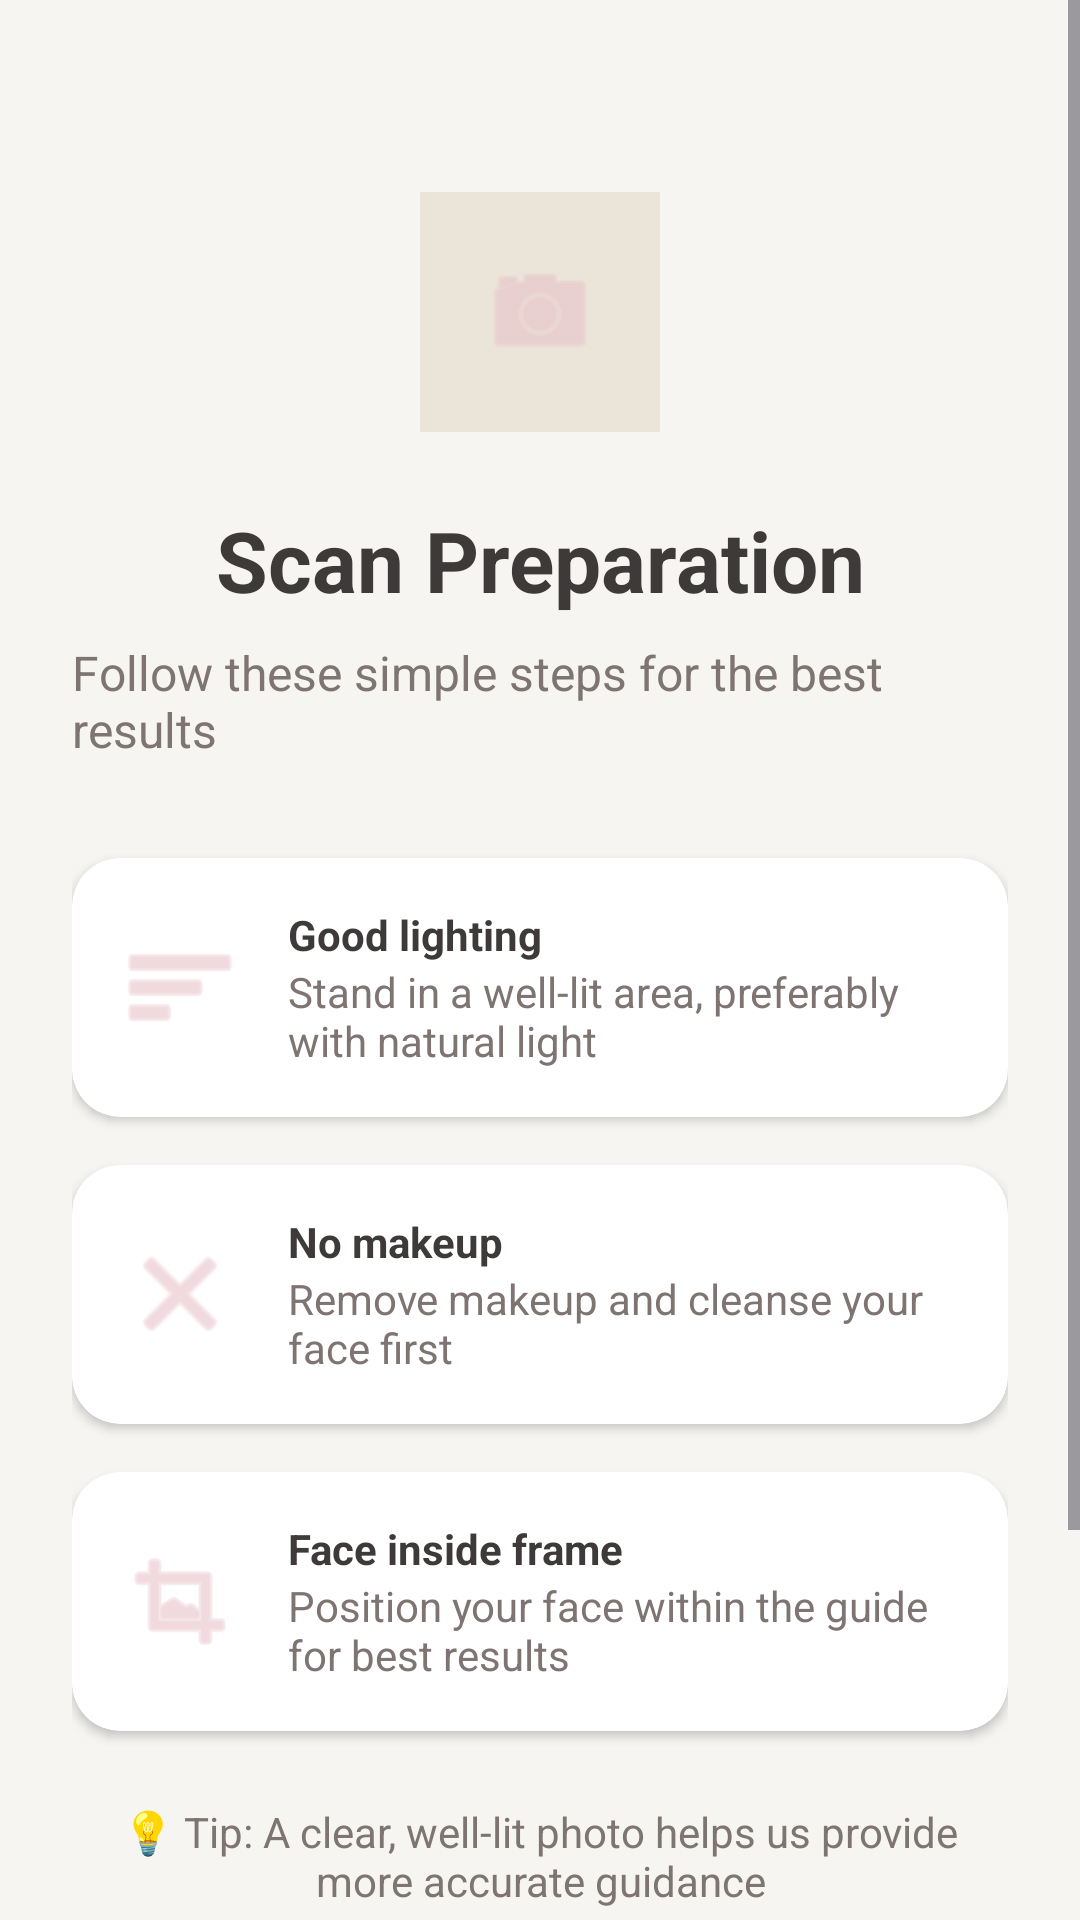

Icons on this 1080*1920 Android screen, each with its box as (x1,y1,x2,y2):
close clear cancel: (145,1259,215,1329)
crop: (136,1559,224,1644)
sort by size: (129,955,231,1020)
